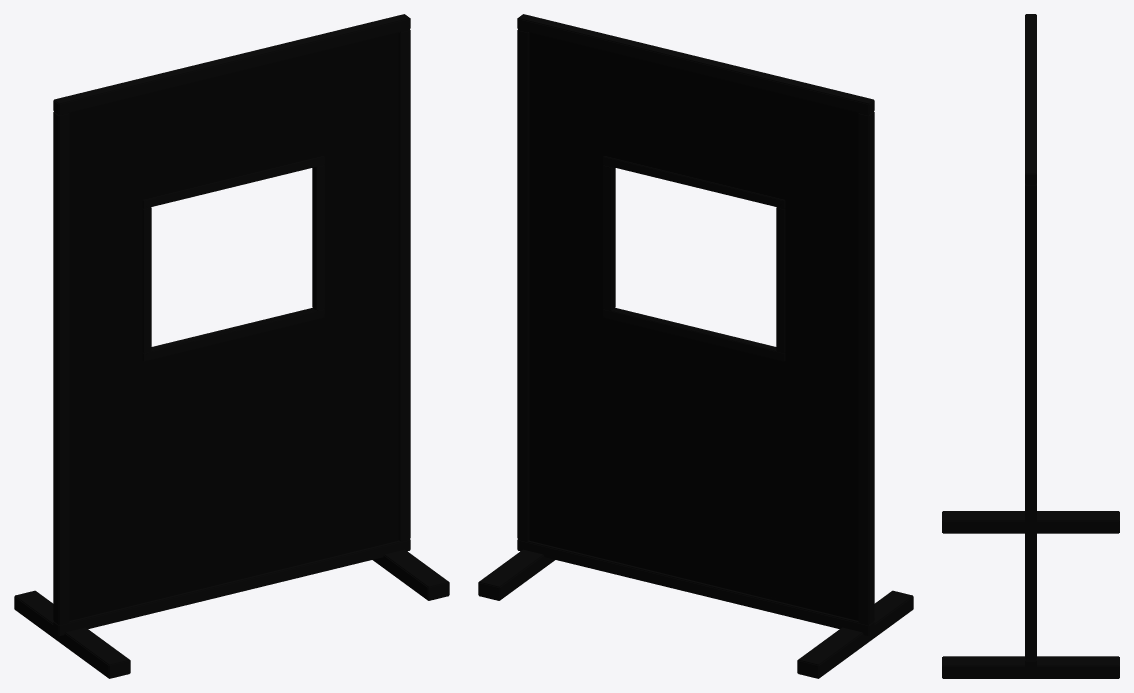
File: obj_wall_black_window.glb
3 renders of one model, left to right at view 1: azimuth 30°, elevation 25°; view 2: azimuth 150°, elevation 25°; view 3: azimuth 270°, elevation 25°, orthographic. The views are drawn at different scales.
Parts seen in each view (by area): view 1: wall_black_window_body; view 2: wall_black_window_body; view 3: wall_black_window_body.
Boxes of the visible parts, box(x1,y1,x2,y2) form: wall_black_window_body: box(14, 14, 449, 678); wall_black_window_body: box(478, 14, 913, 678); wall_black_window_body: box(942, 14, 1119, 678).
Size of the model in its own units: 1.28 by 1.89 by 0.6.
1 material, 1 textured.
